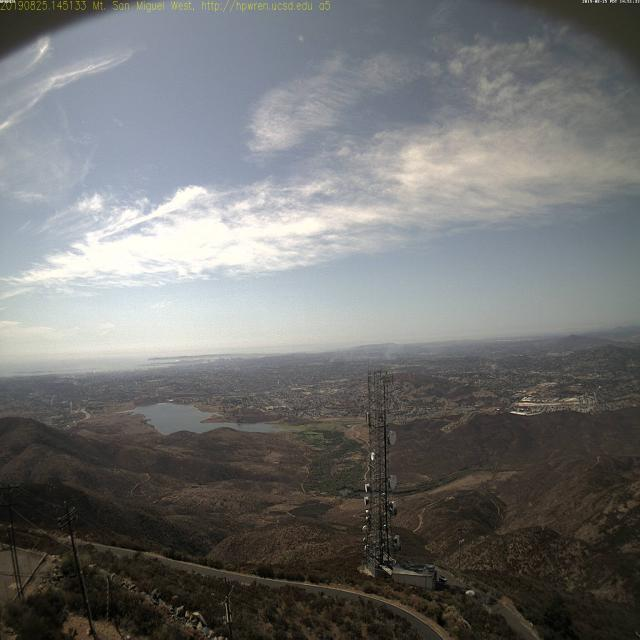smoke: (327, 349, 342, 366)
